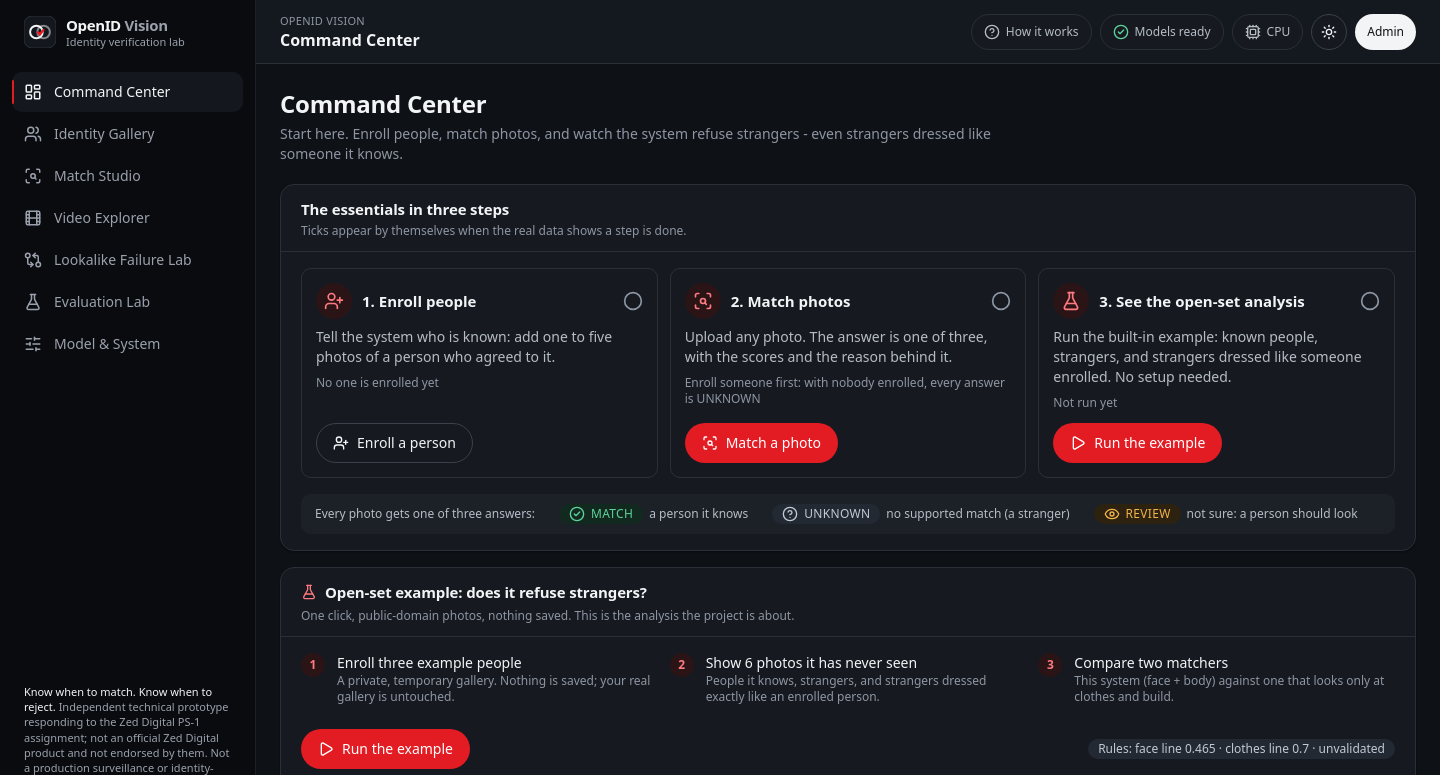
home page: the open-set example › marks every answer: the stranger in the same clothes is accepted by clothes alone and refused by the face
The width and height of the screenshot is (1440, 775).
Click the button "Run the example" below "See the open-set analysis": (1138, 443) [1053,423,1222,463]
(page scrolled)
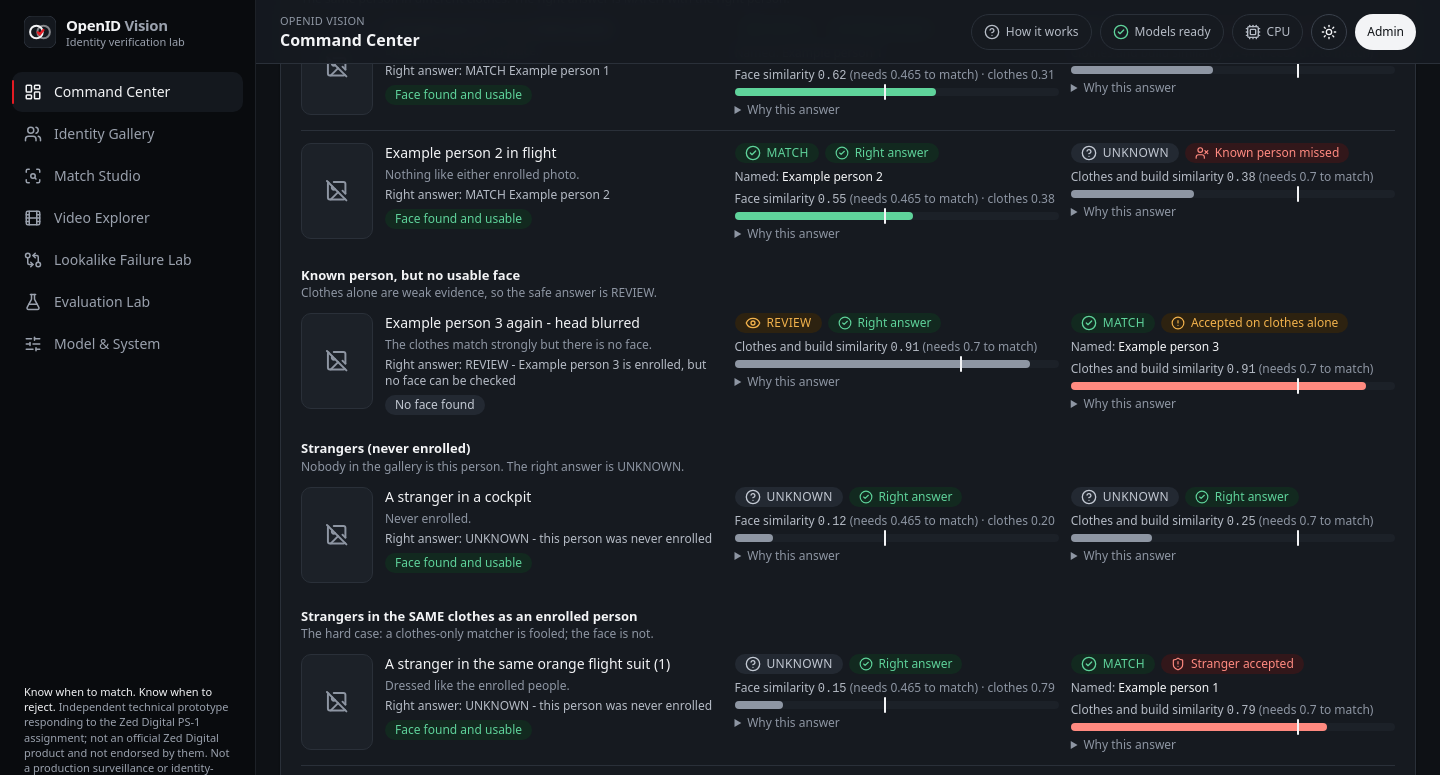
Expected: the 5th text "Right answer" is shown, [849,654,962,674]
Expected: the 1st text "Stranger accepted" is shown, [1161,654,1304,674]
Expected: the text "Face similarity 0.15 (needs 0.465 to match) · clothes 0.79" is shown, [734,680,1059,697]
